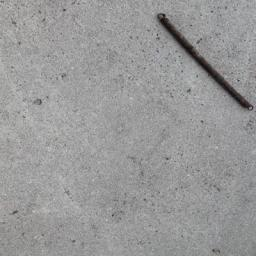FOD: (156, 11, 256, 116)
